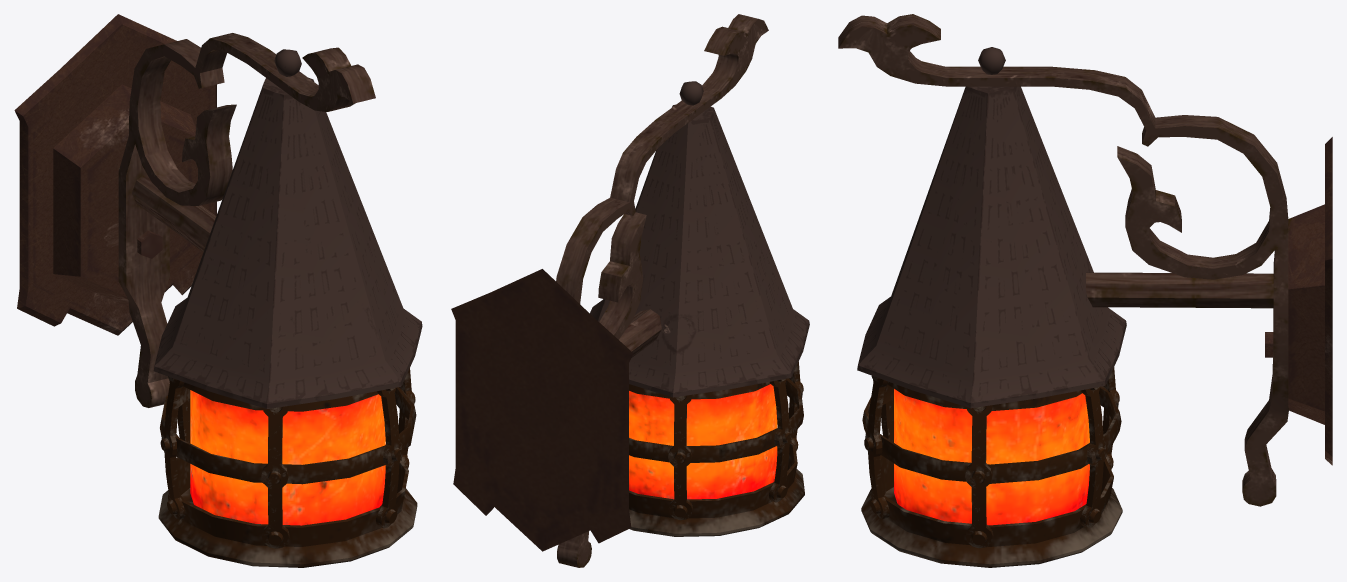
The model's file is lamp.glb.
The picture shows the model from 3 angles, left to right: view 1: azimuth 30°, elevation 25°; view 2: azimuth 150°, elevation 25°; view 3: azimuth 270°, elevation 25°; orthographic projection. The views are drawn at different scales.
Parts seen in each view (by area): view 1: roof.low, krep.low, vetka.low, light, grid_LOW, gridUP.low, baLL, SMALL_lw; view 2: krep.low, roof.low, vetka.low, light, grid_LOW, gridUP.low, baLL; view 3: roof.low, vetka.low, light, grid_LOW, krep.low, gridUP.low.
Part boxes in pixels (box(x1,y1,x2,y2)): roof.low: box(153, 77, 422, 408); krep.low: box(14, 14, 216, 335); vetka.low: box(118, 33, 375, 407); light: box(190, 390, 385, 525); grid_LOW: box(158, 382, 417, 567); gridUP.low: box(160, 368, 415, 548); baLL: box(274, 49, 301, 76); SMALL_lw: box(137, 230, 162, 258); krep.low: box(451, 269, 633, 551); roof.low: box(590, 104, 809, 397); vetka.low: box(556, 14, 768, 567); light: box(629, 384, 777, 499); grid_LOW: box(629, 378, 804, 536); gridUP.low: box(668, 361, 803, 520); baLL: box(679, 81, 703, 105); roof.low: box(857, 86, 1126, 408); vetka.low: box(838, 14, 1288, 506); light: box(894, 389, 1089, 525); grid_LOW: box(861, 382, 1122, 567); krep.low: box(1288, 137, 1332, 465); gridUP.low: box(864, 367, 1119, 548).
Size of the model in its own units: 113 by 215 by 195.
1 material, 1 textured.
